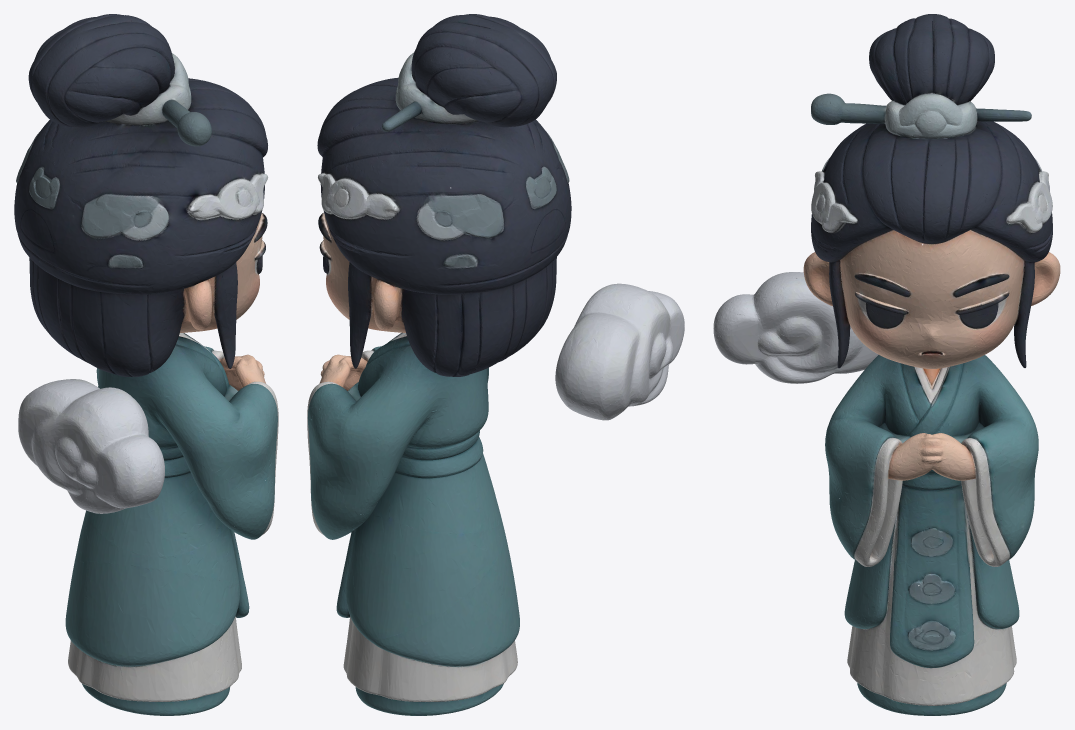
3 renders of one model, left to right at view 1: azimuth 30°, elevation 25°; view 2: azimuth 150°, elevation 25°; view 3: azimuth 270°, elevation 25°, orthographic. The views are drawn at different scales.
Parts seen in each view (by area): view 1: tripo_node_5cef4d91-6b2d-448e-a223-f0493437152c; view 2: tripo_node_5cef4d91-6b2d-448e-a223-f0493437152c; view 3: tripo_node_5cef4d91-6b2d-448e-a223-f0493437152c.
Boxes of the visible parts, x1,y1,x2,y2 form: tripo_node_5cef4d91-6b2d-448e-a223-f0493437152c: (14,14,278,715); tripo_node_5cef4d91-6b2d-448e-a223-f0493437152c: (307,14,684,715); tripo_node_5cef4d91-6b2d-448e-a223-f0493437152c: (713,14,1060,715).
Bounding box in the file's own units: 0.418 × 1 × 0.485.
Materials: 1 (1 with a texture image).
